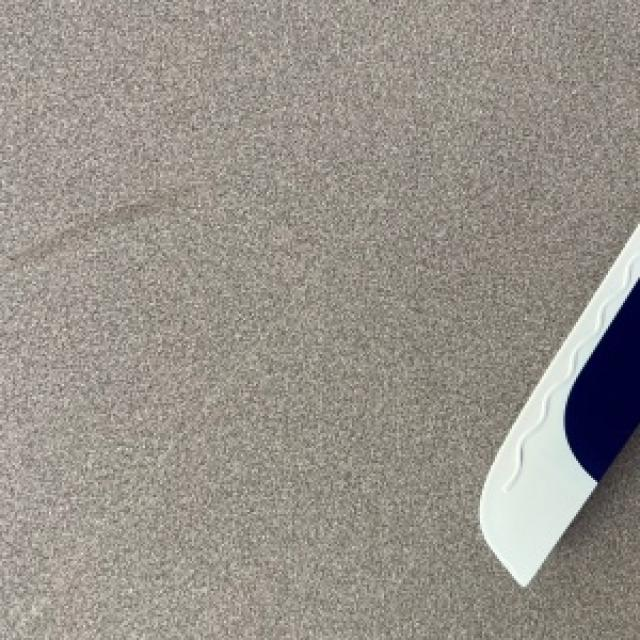healthy: (480, 224, 638, 582)
